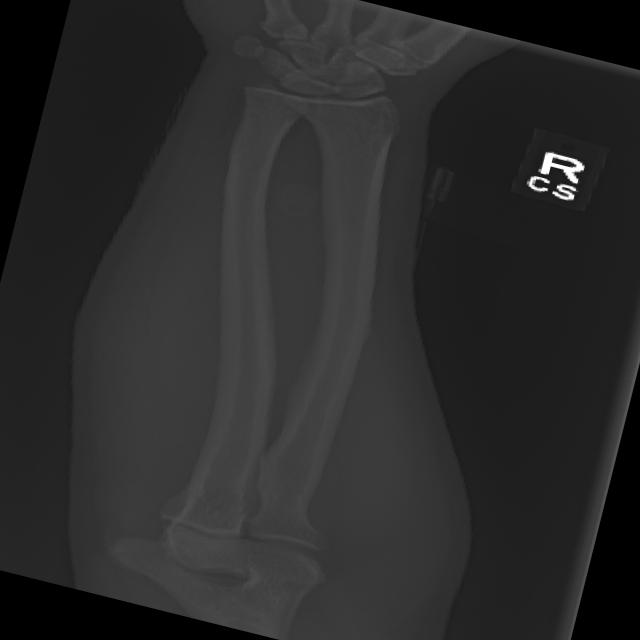forearm fracture: (216, 424, 310, 498)
